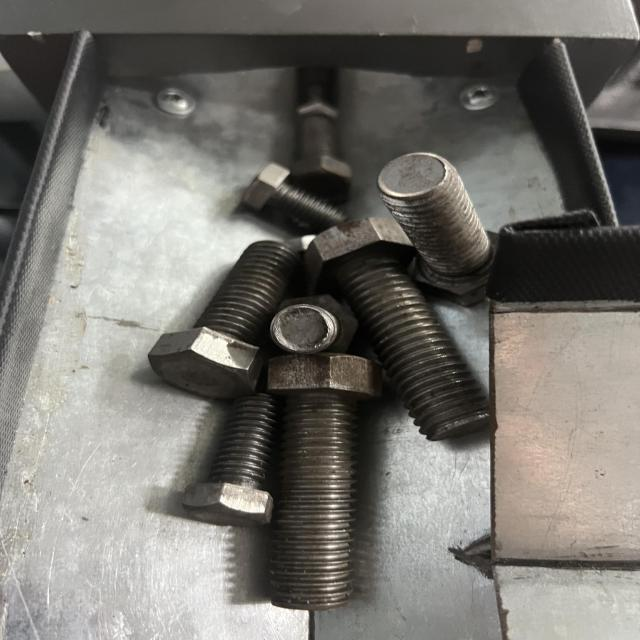bolt: (182, 393, 286, 526)
